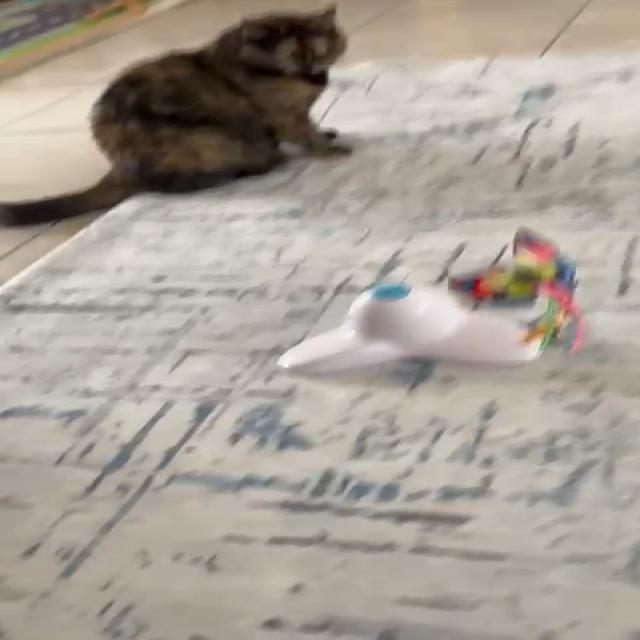authorized: (0, 1, 353, 227)
